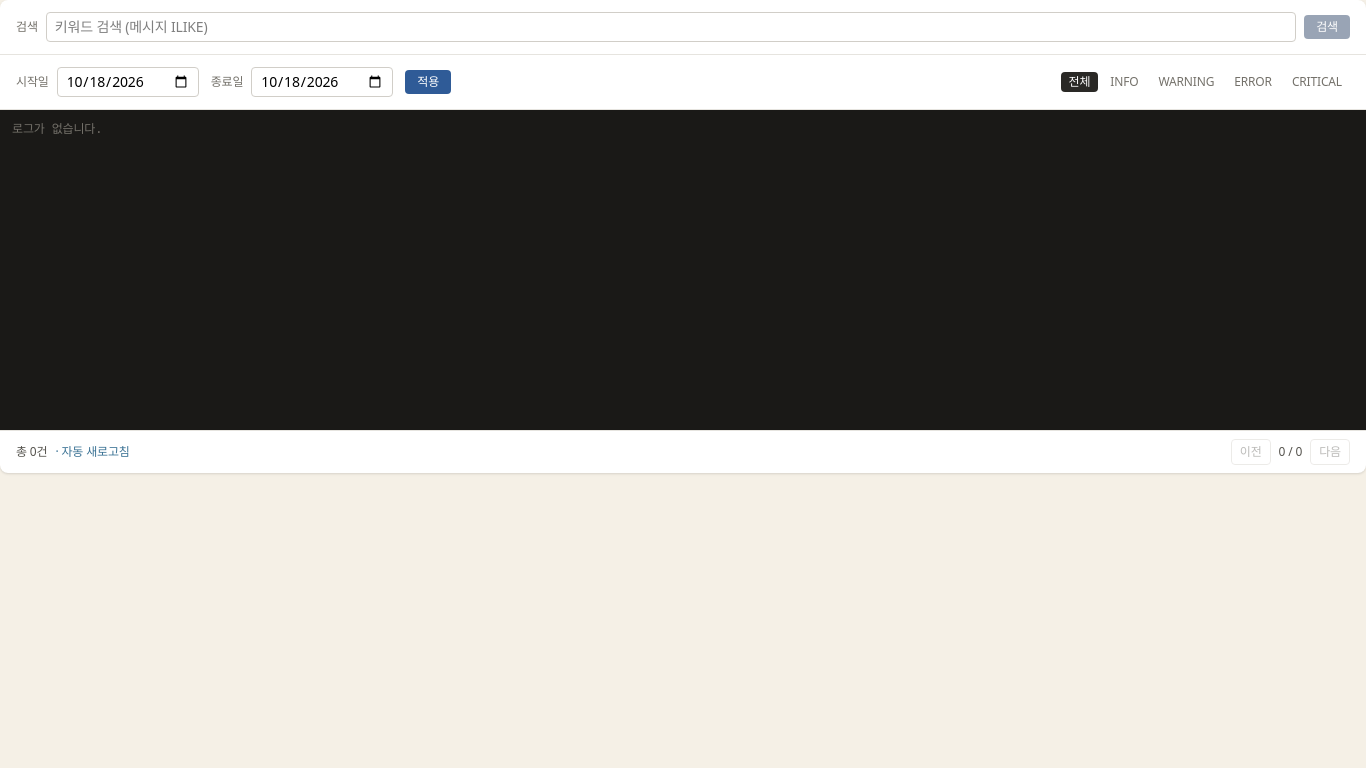
Test: SystemLogsTab — 검색 박스 (사이클 6 통합, 2026-05-20) › has_more=true → '키워드를 좁혀주세요' 안내
In the field with test id "system-logs-search-input": (671, 27) left=46, top=12, right=1296, bottom=42, type "msg"
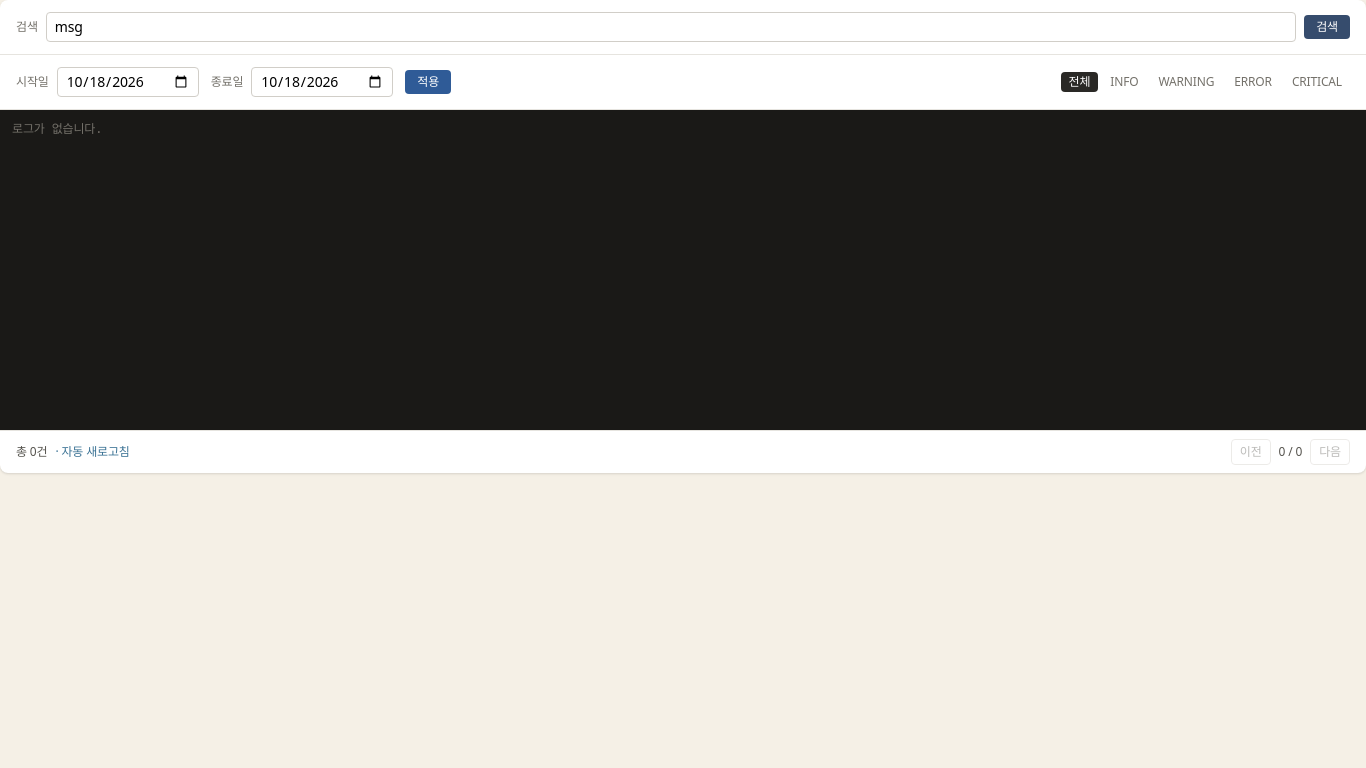
Click the button with test id "system-logs-search-button": click(1327, 27) left=1304, top=15, right=1350, bottom=39
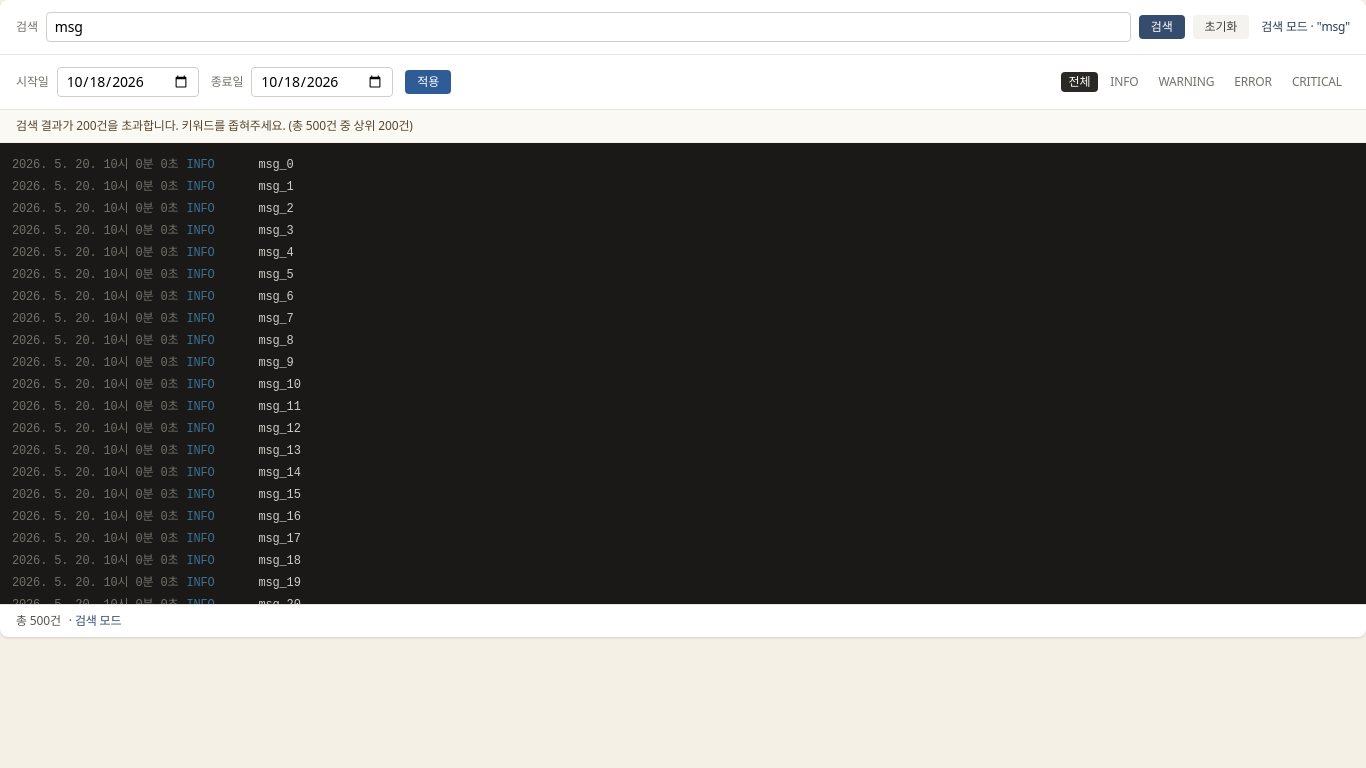
Check: the text "검색 결과가 200건을 초과합니다. 키워드를 좁혀주세요. (총 500건 중 상위 200건)" is shown, box left=0, top=110, right=1365, bottom=143
